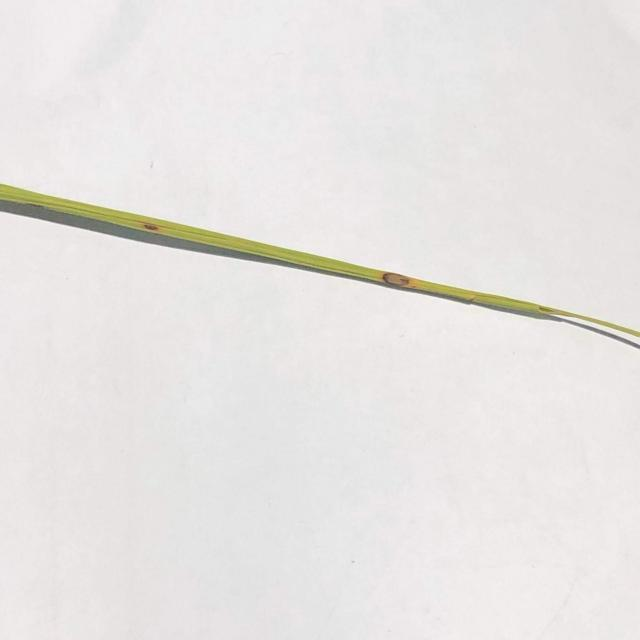Blast: (380, 275, 410, 287)
